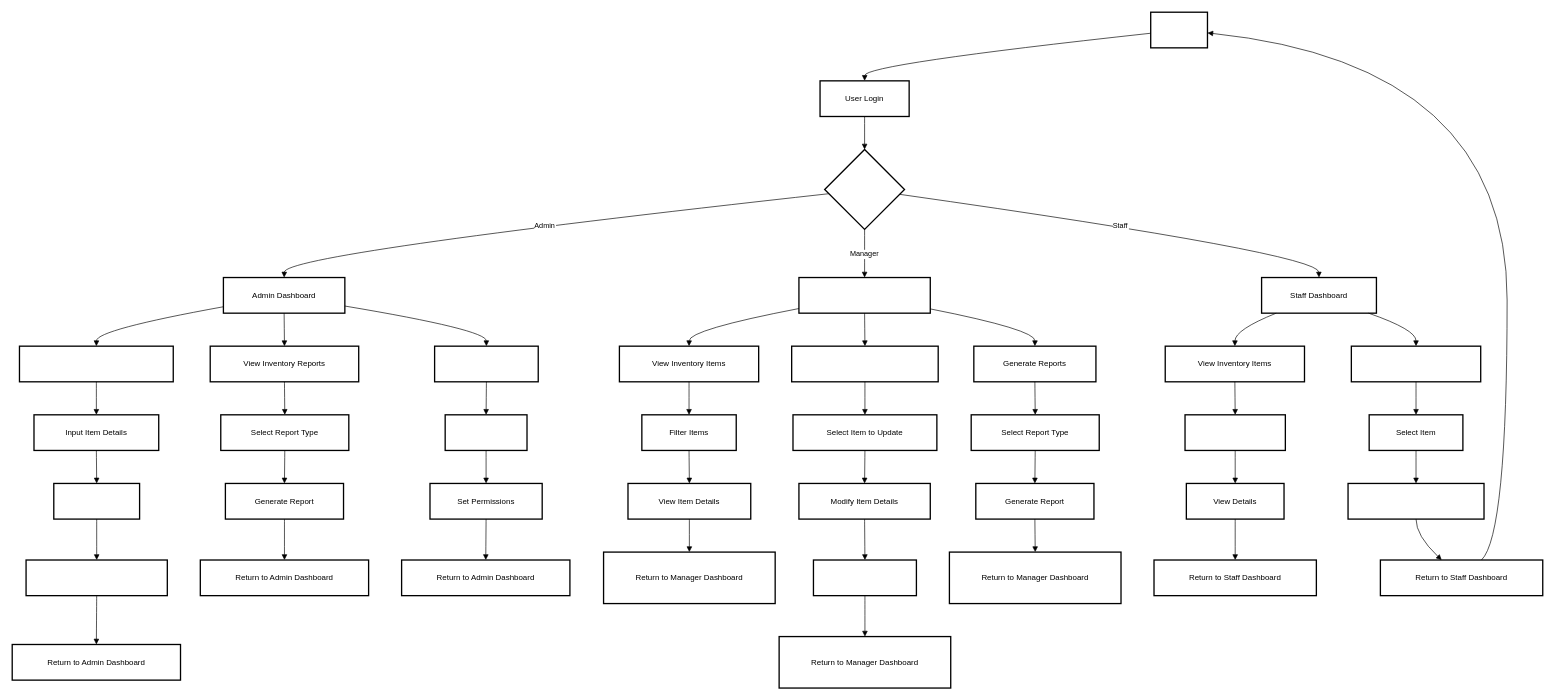
Image size: 1554x700. Some labels were removed from this diagram. Each missing label, with the box of its shape:
Add New Inventory Item: (18, 345, 174, 382)
Add User: (444, 414, 527, 451)
Check Current Stock: (1347, 482, 1484, 519)
Check Stock Levels: (1350, 345, 1481, 382)
End: (1150, 11, 1208, 48)
Manage Users: (434, 345, 539, 382)
Manager Dashboard: (798, 277, 931, 314)
Save Changes: (812, 559, 917, 596)
Save Item: (53, 482, 140, 519)
Search Items: (1184, 414, 1286, 451)
Update Inventory Item: (791, 345, 939, 382)
Update Inventory List: (25, 559, 168, 596)
User Role: (824, 148, 905, 230)
